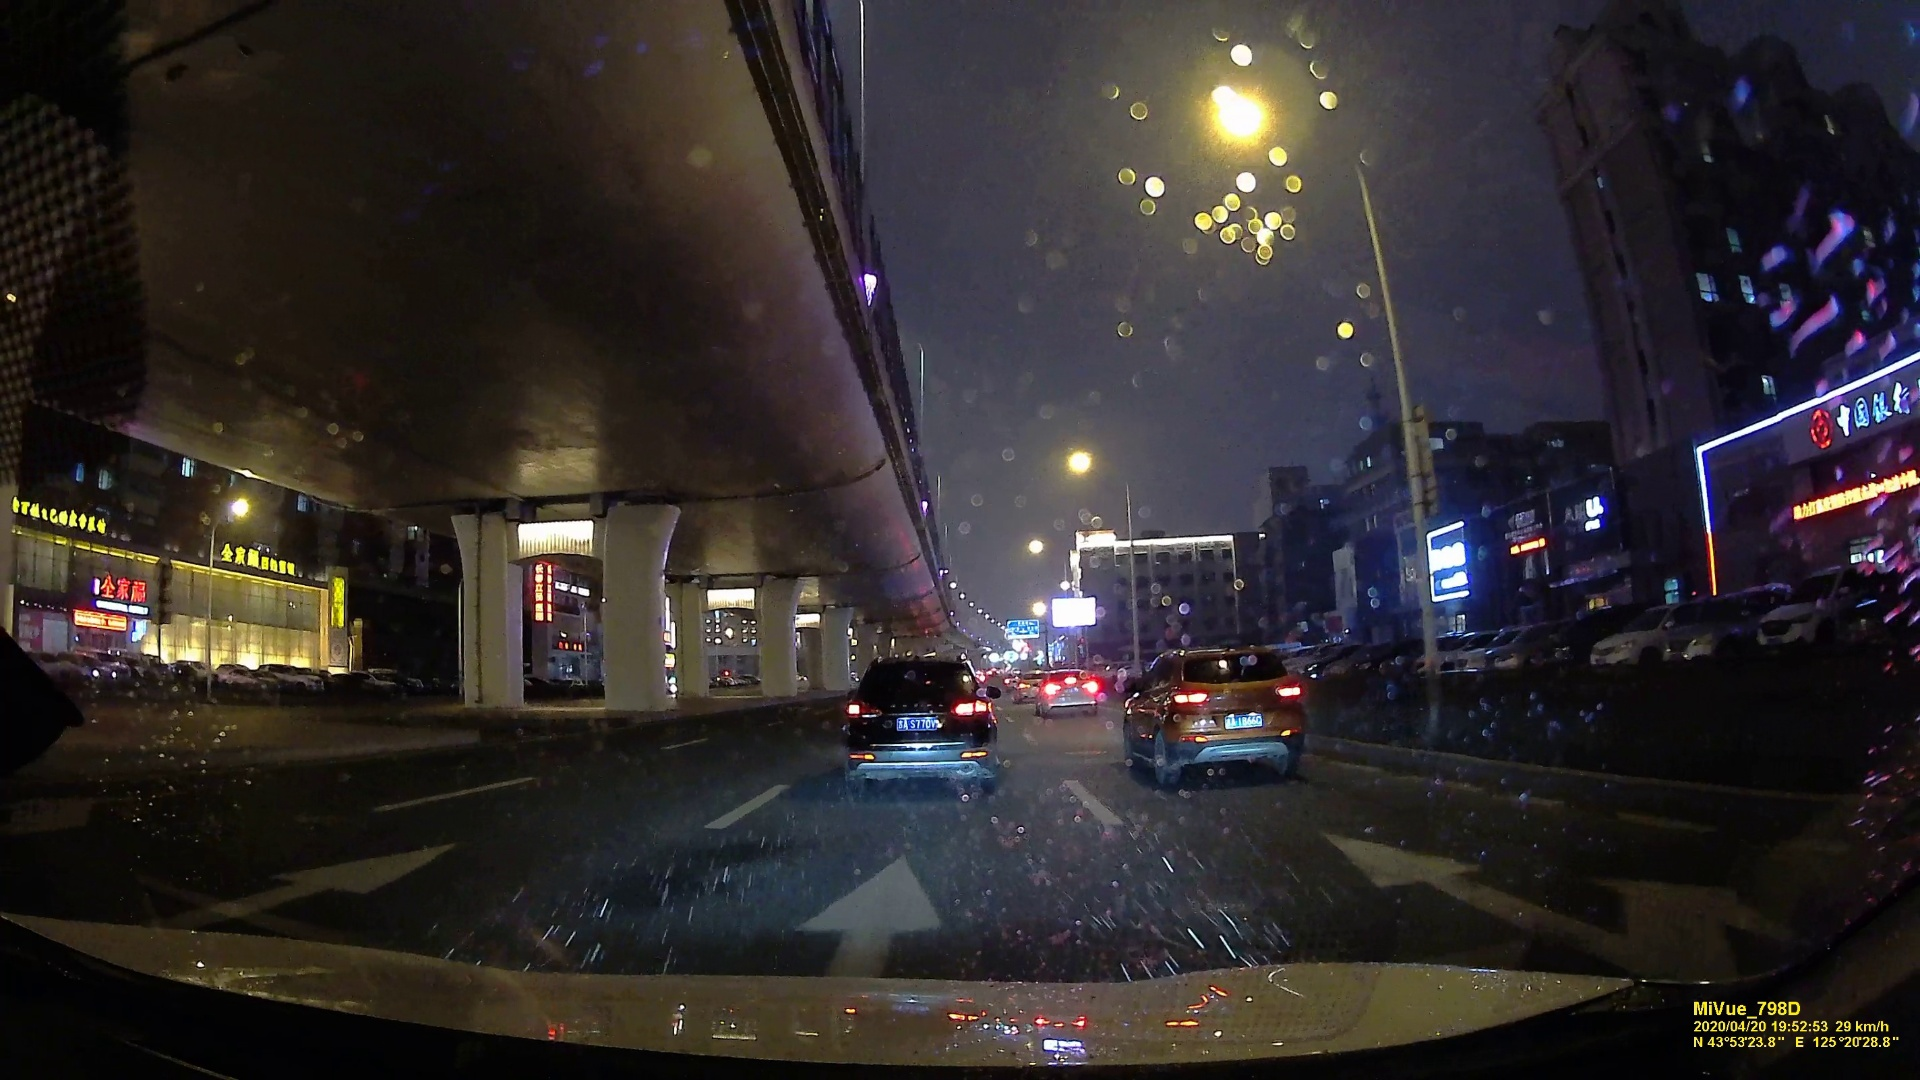traffic_sign: (1007, 618, 1036, 636)
vehicle: (1116, 642, 1302, 786), (844, 654, 994, 793), (1035, 667, 1102, 719)
